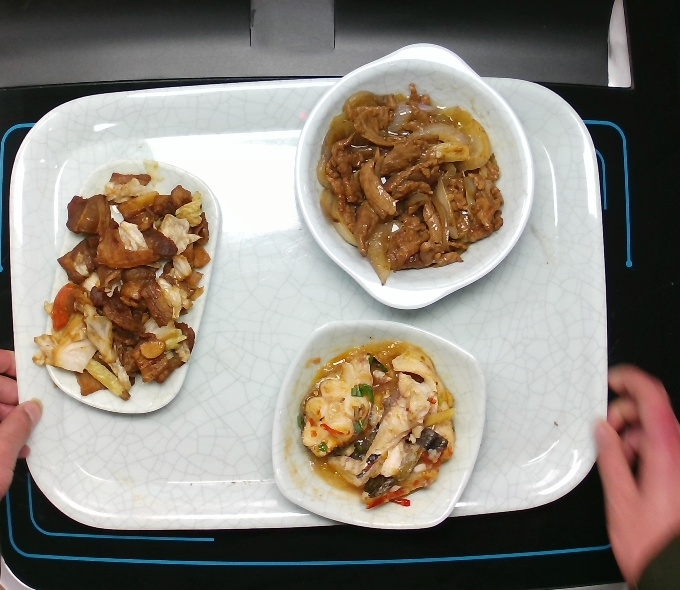wcq-DuoJiaoYuKuai: (295, 343, 466, 509)
wcq-PaoCaiRouPian: (48, 164, 210, 402)
wcq-YangCongRouPian: (316, 88, 503, 281)
